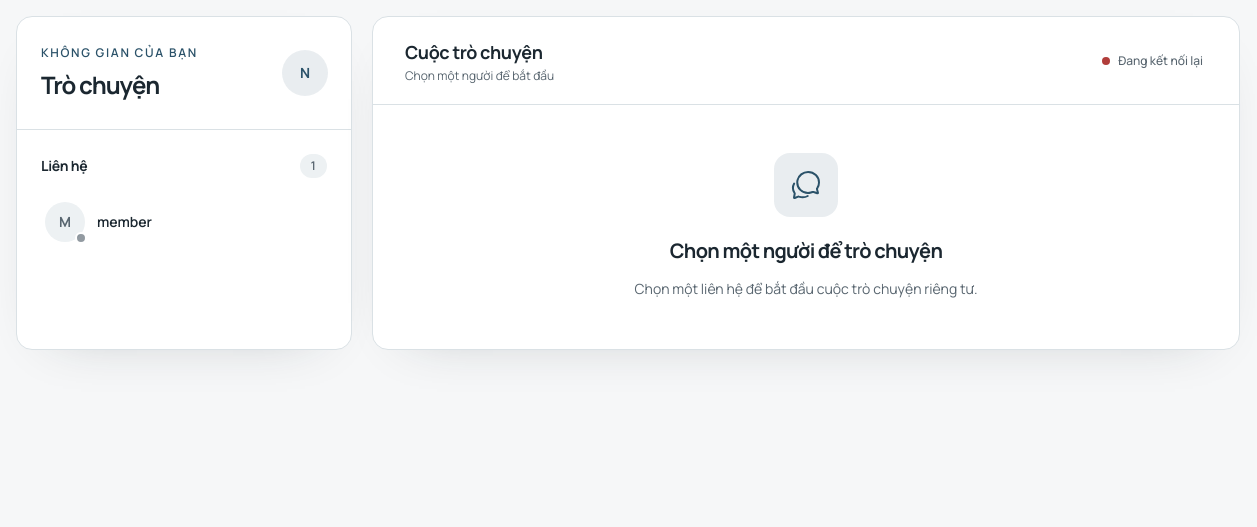
Test: groups dated messages and leaves legacy null timestamps without a clock
Click the button "M member" at (65,222), box left=33, top=190, right=335, bottom=254
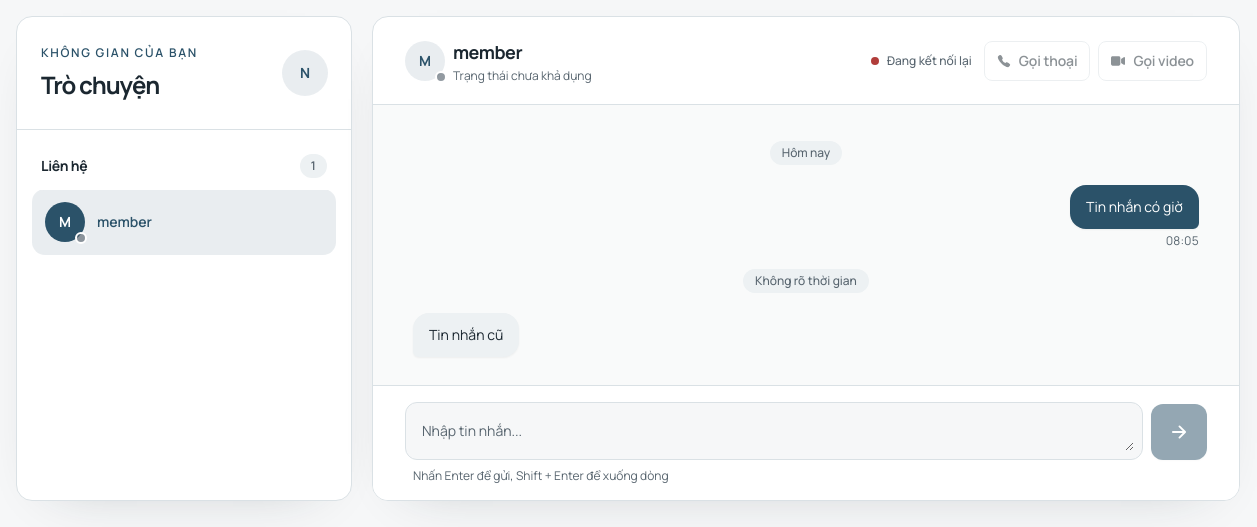
Expected: the element "Hôm nay" is shown, left=770, top=141, right=842, bottom=165
Expected: the element "Không rõ thời gian" is shown, left=743, top=269, right=869, bottom=293
